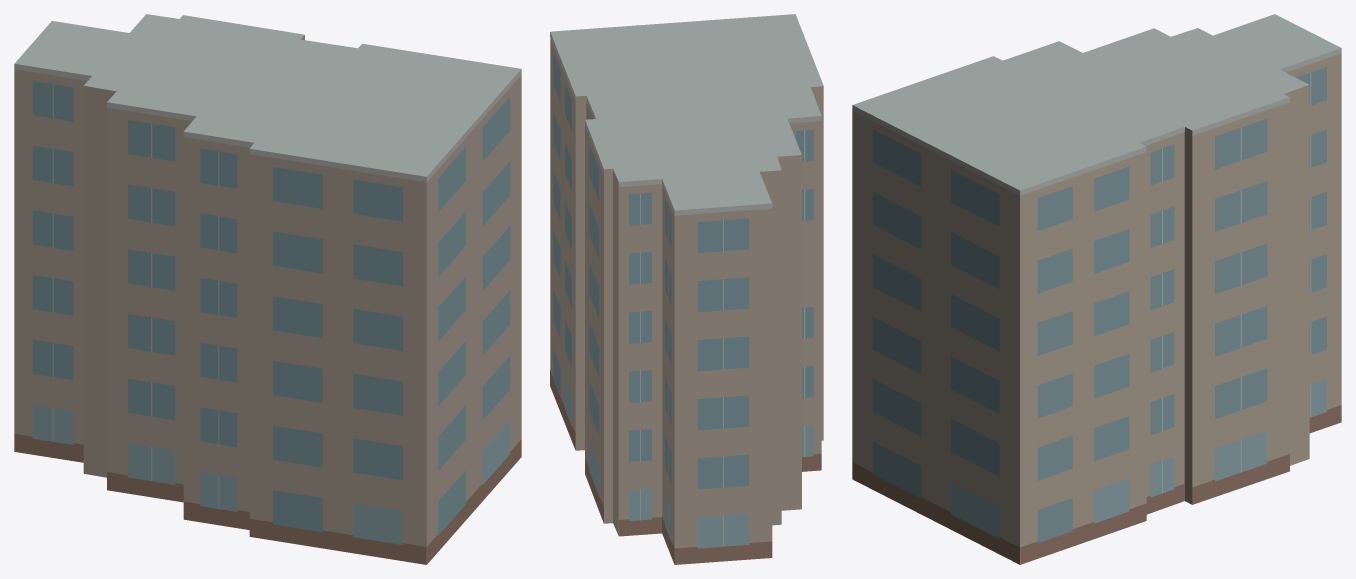
Rendered from survey-upis-32669872.glb.
3 views of the same model, side by side, from view 1: azimuth 30°, elevation 25°; view 2: azimuth 150°, elevation 25°; view 3: azimuth 270°, elevation 25° (orthographic). The views are drawn at different scales.
Visible parts, largest first — view 1: survey-upis-32669872.tmp; view 2: survey-upis-32669872.tmp; view 3: survey-upis-32669872.tmp.
Boxes of the visible parts, <box> form: survey-upis-32669872.tmp: <box>14,14,521,564</box>; survey-upis-32669872.tmp: <box>550,14,823,564</box>; survey-upis-32669872.tmp: <box>852,14,1341,564</box>.
Size of the model in its own units: 17.23 by 17.02 by 20.17.
